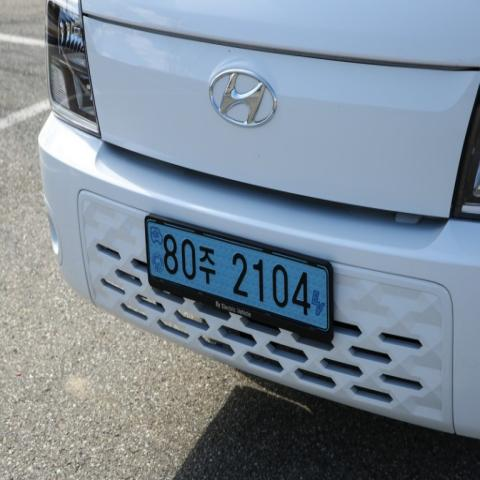LP: (142, 210, 344, 350)
